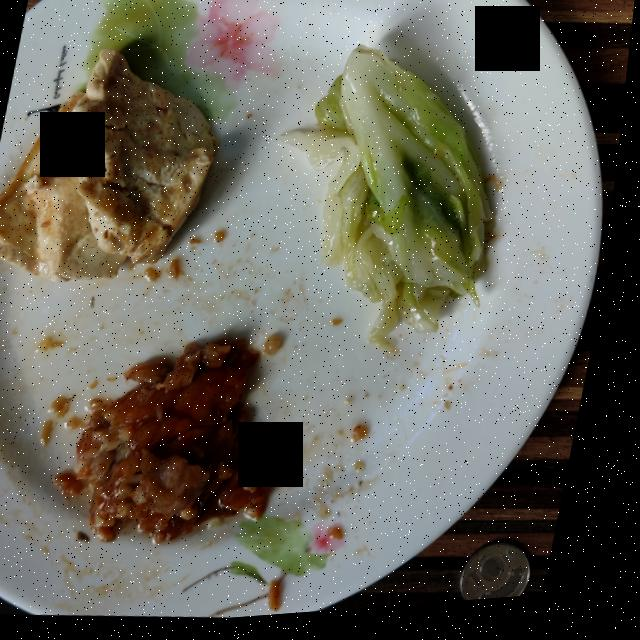Kabayaki sea bream fillet: (72, 342, 281, 545)
cabbage: (282, 51, 499, 352)
coin: (473, 551, 543, 609)
